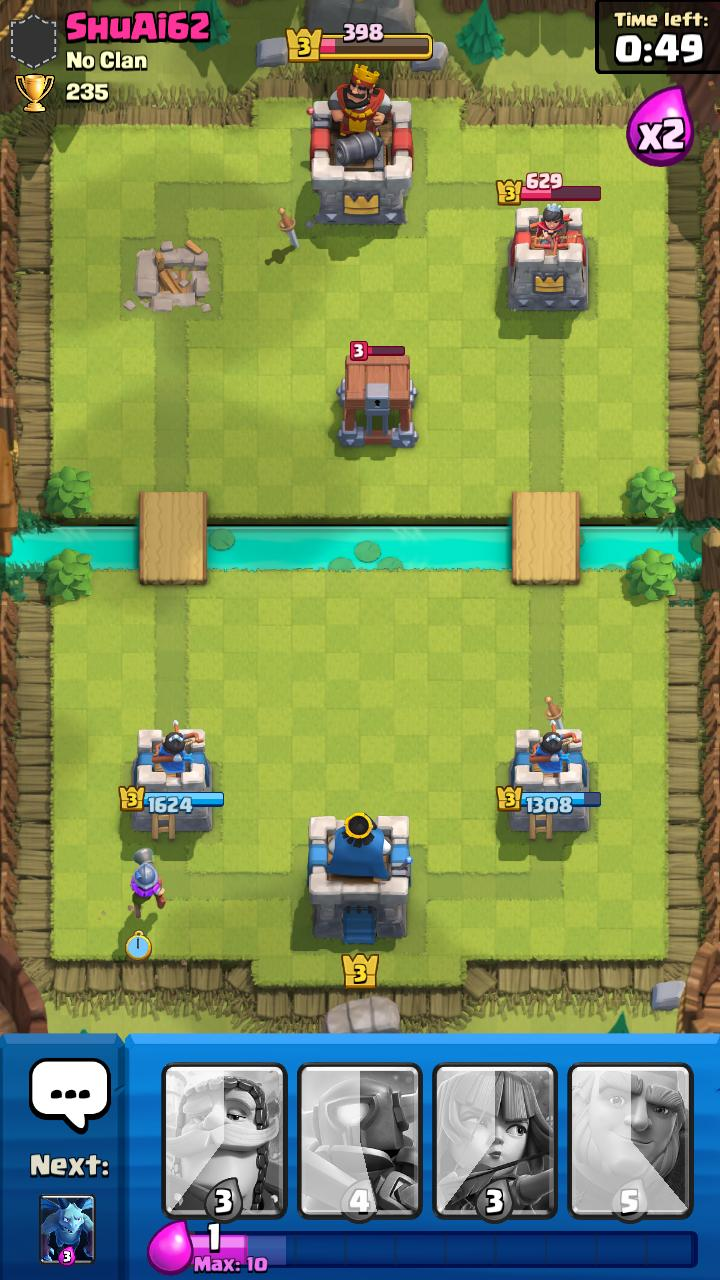ally: (130, 848, 166, 919)
enemy: (336, 341, 419, 448)
